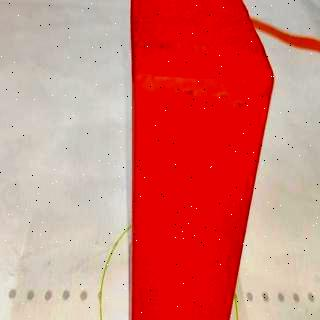redbox: (130, 2, 273, 320)
